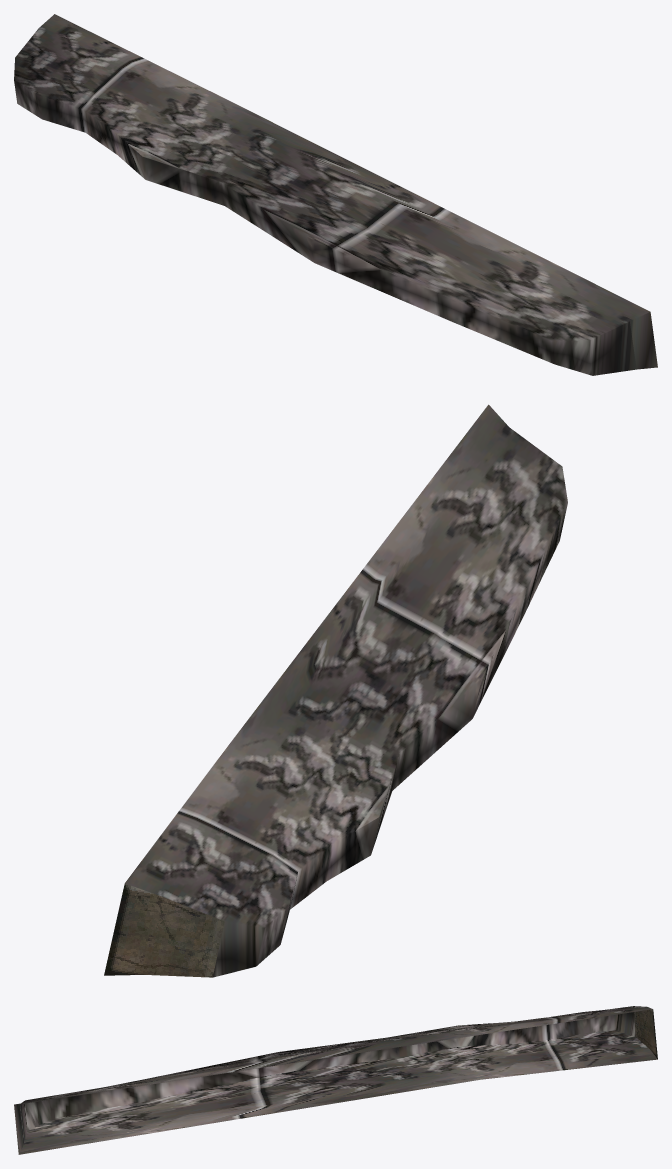
File: CH09_SMAUG_PLAYSURFACE_LAIR50.fbx
3 views of the same model, one above another, from view 1: azimuth 30°, elevation 25°; view 2: azimuth 150°, elevation 25°; view 3: azimuth 270°, elevation 25° (orthographic). The views are drawn at different scales.
Parts seen in each view (by area): view 1: CH09_SMAUG_PLAYSURFACE_LAIR50; view 2: CH09_SMAUG_PLAYSURFACE_LAIR50; view 3: CH09_SMAUG_PLAYSURFACE_LAIR50.
Boxes of the visible parts, <box> form: CH09_SMAUG_PLAYSURFACE_LAIR50: <box>14,14,657,375</box>; CH09_SMAUG_PLAYSURFACE_LAIR50: <box>104,404,567,977</box>; CH09_SMAUG_PLAYSURFACE_LAIR50: <box>14,1006,657,1154</box>.
Size of the model in its own units: 26455 by 9603 by 75180.
2 materials, 2 textured.
